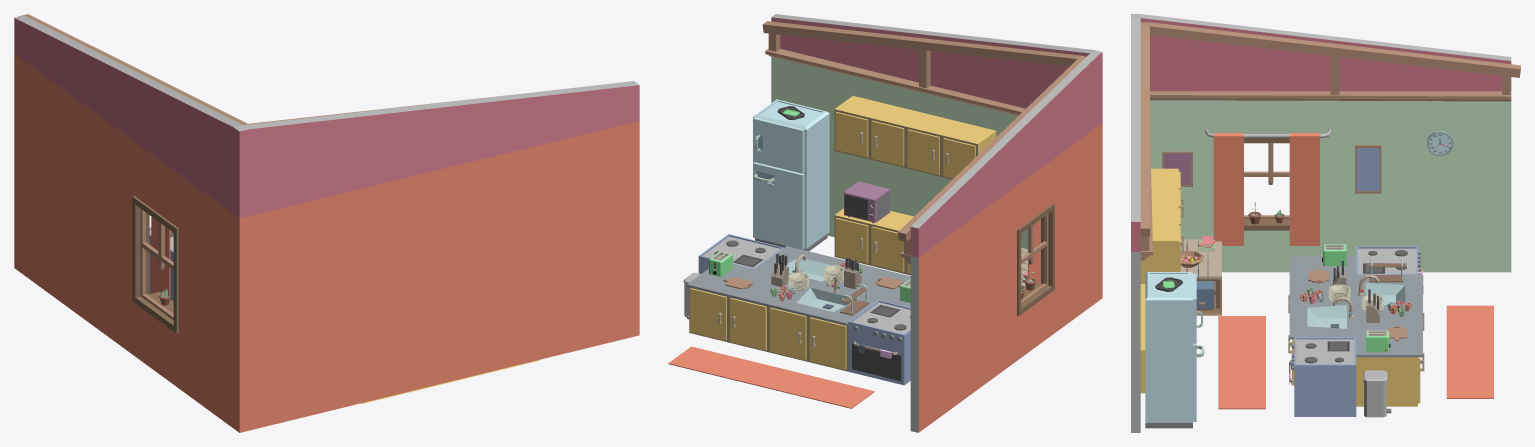
File: GetBackToTheKitchenNoFloor.fbx
3 renders of one model, left to right at view 1: azimuth 30°, elevation 25°; view 2: azimuth 150°, elevation 25°; view 3: azimuth 270°, elevation 25°, orthographic. The views are drawn at different scales.
Parts seen in each view (by area): view 1: Wall, Winow; view 2: Wall, Sink, Refrigerator, Sink.001, GasRange, Plane, Sink.004, Winow, Sink.003, GasRange.001, Oven, Toaster (+3 smaller); view 3: Wall, Winow, Refrigerator, Sink, GasRange.001, Sink.003, Plane.001, Plane, Sink.001, Painting, Table, GasRange (+7 smaller).
Part boxes in pixels (left/top/right/bottom): Wall: left=14, top=14, right=639, bottom=432; Winow: left=132, top=196, right=178, bottom=333; Wall: left=762, top=14, right=1102, bottom=432; Sink: left=687, top=264, right=877, bottom=371; Refrigerator: left=753, top=99, right=829, bottom=251; Sink.001: left=834, top=96, right=995, bottom=179; GasRange: left=848, top=300, right=910, bottom=385; Plane: left=668, top=346, right=874, bottom=408; Sink.004: left=834, top=208, right=913, bottom=275; Winow: left=1017, top=203, right=1054, bottom=316; Sink.003: left=755, top=246, right=910, bottom=307; GasRange.001: left=698, top=234, right=783, bottom=273; Oven: left=844, top=181, right=890, bottom=223; Toaster: left=709, top=251, right=732, bottom=276; Wall: left=1131, top=14, right=1520, bottom=432; Winow: left=1205, top=129, right=1331, bottom=245; Refrigerator: left=1145, top=272, right=1204, bottom=428; Sink: left=1356, top=274, right=1424, bottom=406; GasRange.001: left=1289, top=337, right=1356, bottom=416; Sink.003: left=1288, top=256, right=1356, bottom=385; Plane.001: left=1218, top=316, right=1265, bottom=409; Plane: left=1446, top=305, right=1493, bottom=398; Sink.001: left=1151, top=168, right=1183, bottom=242; Painting: left=1162, top=145, right=1381, bottom=193; Table: left=1180, top=239, right=1221, bottom=315; GasRange: left=1356, top=246, right=1423, bottom=294.
Bounding box in the file's own units: 835 × 594 × 820.
1 material, 1 textured.
